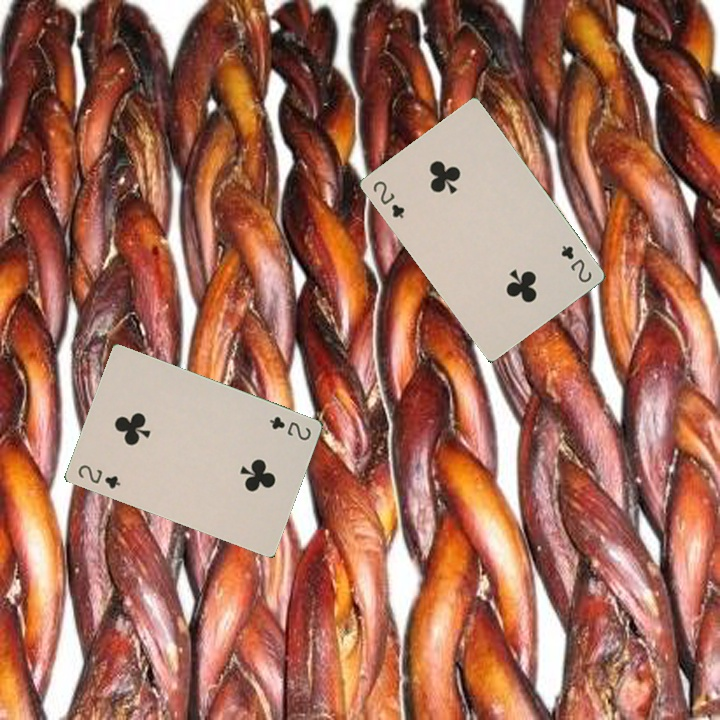2c: (369, 176, 407, 221), (557, 241, 594, 285), (265, 412, 314, 443), (74, 461, 123, 491)
